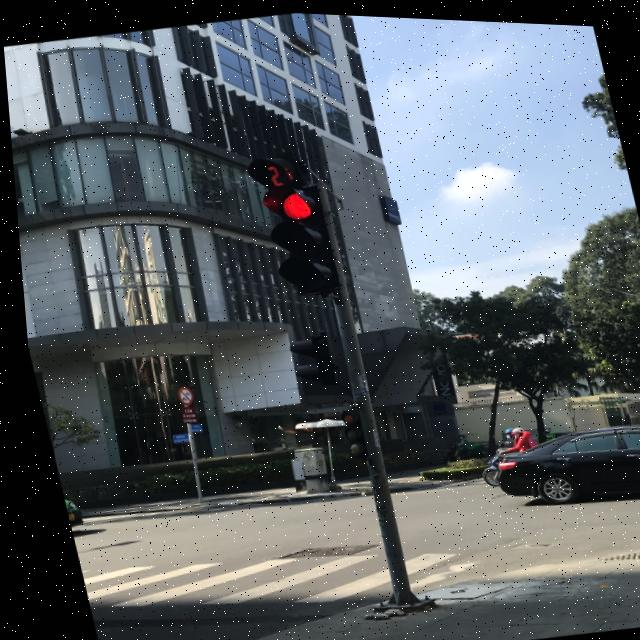Red: (248, 176, 344, 303)
